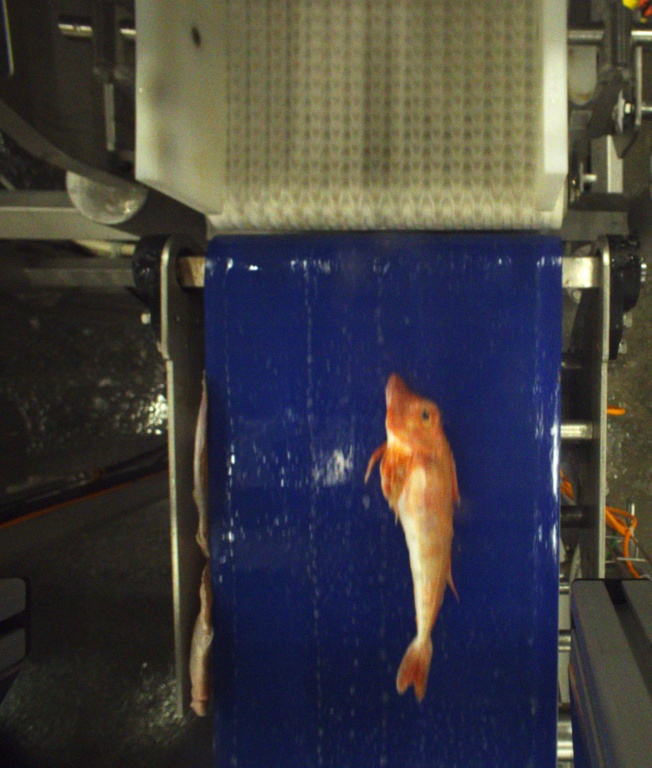GUU: (365, 375, 460, 701)
